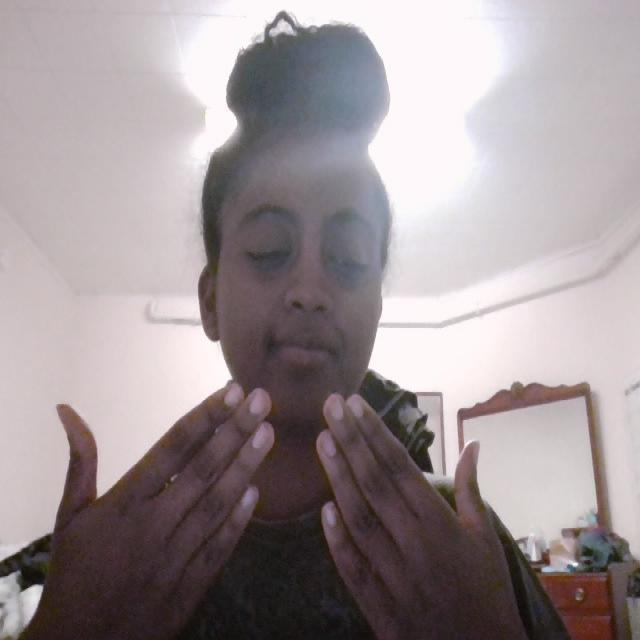thanks: (31, 351, 577, 640)
